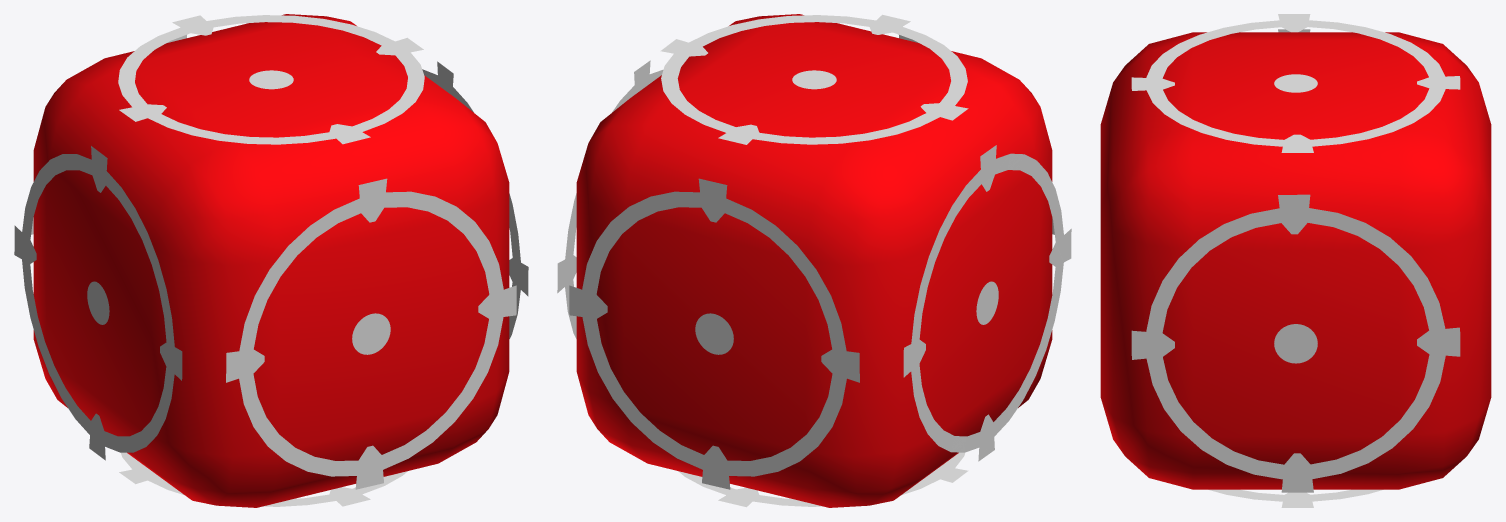
File: Target.fbx
3 renders of one model, left to right at view 1: azimuth 30°, elevation 25°; view 2: azimuth 150°, elevation 25°; view 3: azimuth 270°, elevation 25°, orthographic. The views are drawn at different scales.
Visible parts, largest first — view 1: Cube.Red; view 2: Cube.Red; view 3: Cube.Red.
Boxes of the visible parts, x1=… form: Cube.Red: x1=14, y1=14, x2=528, y2=507; Cube.Red: x1=557, y1=14, x2=1071, y2=507; Cube.Red: x1=1100, y1=14, x2=1491, y2=507.
Size of the model in its own units: 66.14 by 66.14 by 66.14.
